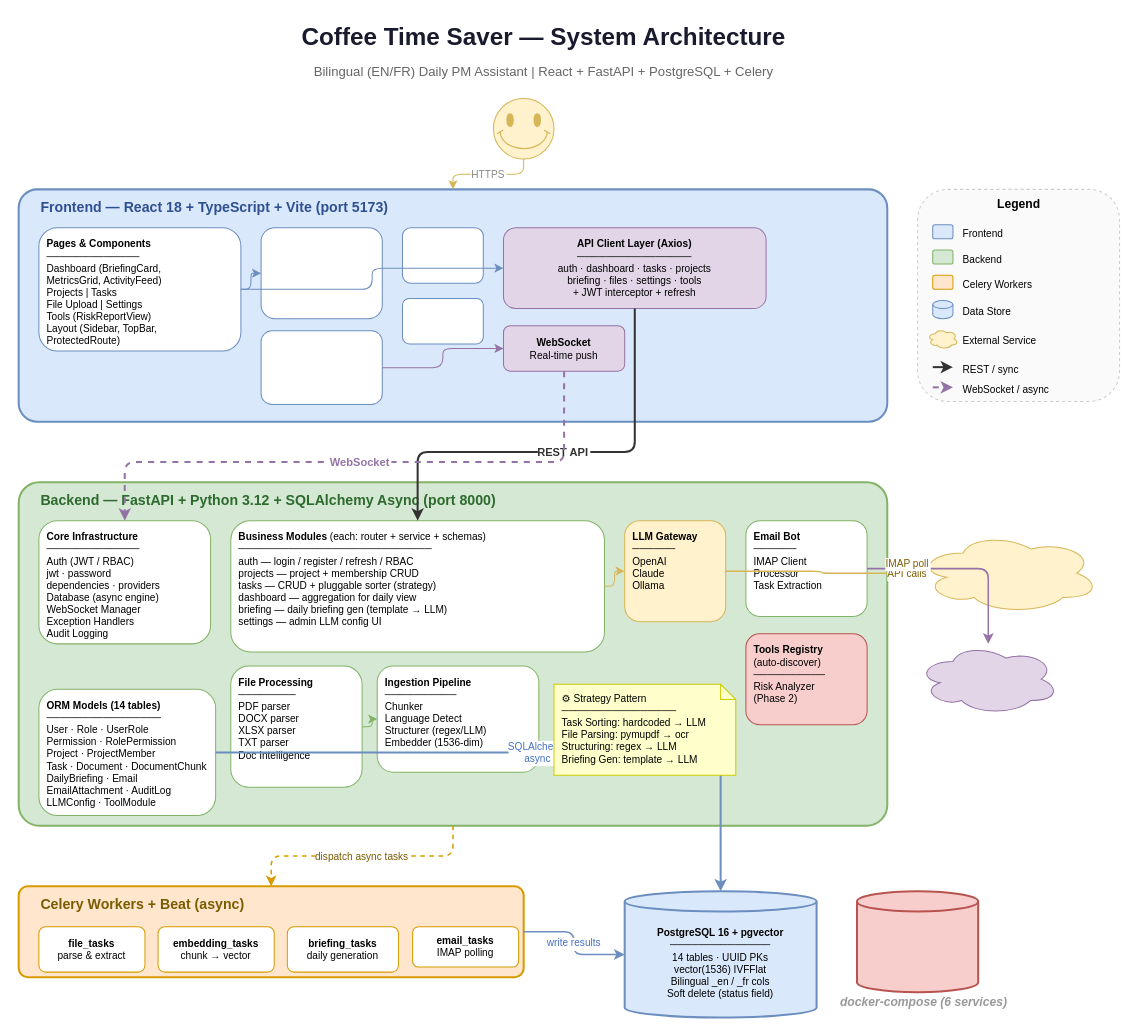
Some shapes in this 1137 by 1035 pixel diagram are drawn without their labels. Here are the shapes that lost their labels. From the top down, the centre of each, then its label:
At pixel 523 128: "PM User (Browser)".
At pixel 321 273: "Zustand Store ─────── authStore uiStore".
At pixel 442 255: "i18n en.json fr.json".
At pixel 442 320: "Types TS defs".
At pixel 321 367: "Hooks ────── useWebSocket useWsEvent".
At pixel 1008 573: "LLM Providers OpenAI / Claude / Ollama".
At pixel 988 679: "Mail Server IMAP".
At pixel 917 941: "Redis 7 Cache + Celery Broker".
